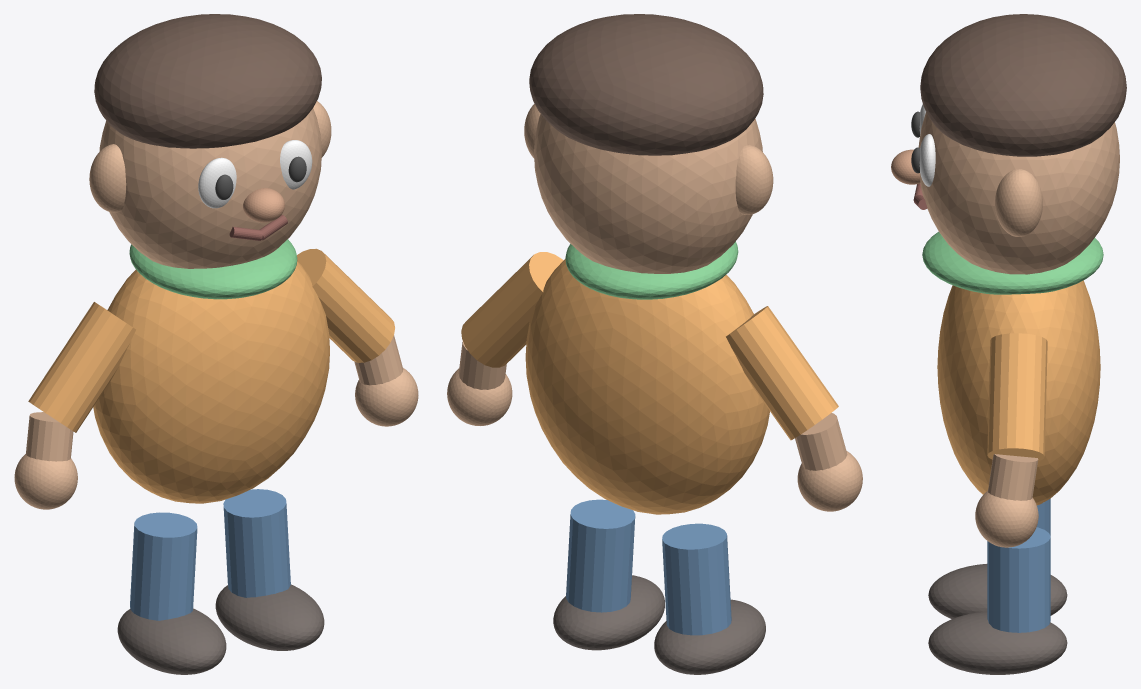
Rendered from golu.glb.
3 views of the same model, side by side, from view 1: azimuth 30°, elevation 25°; view 2: azimuth 150°, elevation 25°; view 3: azimuth 270°, elevation 25° (orthographic). The views are drawn at different scales.
Visible parts, largest first — view 1: Golu_torso, Golu_hair, Golu_head, Golu_L_upper_arm, Golu_L_leg, Golu_R_leg, Golu_R_upper_arm, Golu_L_shoe, Golu_R_shoe, Golu_scarf, Golu_L_hand, Golu_R_hand (+6 smaller); view 2: Golu_torso, Golu_hair, Golu_head, Golu_L_upper_arm, Golu_L_leg, Golu_R_leg, Golu_R_upper_arm, Golu_L_shoe, Golu_R_shoe, Golu_scarf, Golu_L_hand, Golu_R_hand (+3 smaller); view 3: Golu_hair, Golu_torso, Golu_head, Golu_R_upper_arm, Golu_R_shoe, Golu_R_leg, Golu_scarf, Golu_L_shoe, Golu_R_hand, Golu_ear_1, Golu_R_forearm, Golu_eye_white_1 (+2 smaller).
Part boxes in pixels (<box>): Golu_torso: <box>93,261,329,503</box>; Golu_hair: <box>94,14,321,148</box>; Golu_head: <box>99,108,321,268</box>; Golu_L_upper_arm: <box>28,302,135,432</box>; Golu_L_leg: <box>130,512,197,620</box>; Golu_R_leg: <box>223,489,290,597</box>; Golu_R_upper_arm: <box>297,248,394,362</box>; Golu_L_shoe: <box>117,608,226,674</box>; Golu_R_shoe: <box>215,584,324,650</box>; Golu_scarf: <box>129,239,297,299</box>; Golu_L_hand: <box>14,454,77,509</box>; Golu_R_hand: <box>355,368,418,426</box>; Golu_torso: <box>525,259,769,514</box>; Golu_hair: <box>529,14,763,155</box>; Golu_head: <box>534,114,762,273</box>; Golu_L_upper_arm: <box>726,306,838,440</box>; Golu_L_leg: <box>662,523,731,635</box>; Golu_R_leg: <box>566,499,635,612</box>; Golu_R_upper_arm: <box>461,252,563,367</box>; Golu_L_shoe: <box>654,599,765,674</box>; Golu_R_shoe: <box>553,575,664,650</box>; Golu_scarf: <box>565,241,738,299</box>; Golu_L_hand: <box>797,451,862,511</box>; Golu_R_hand: <box>447,368,512,425</box>; Golu_hair: <box>920,14,1126,156</box>; Golu_torso: <box>937,280,1100,505</box>; Golu_head: <box>918,112,1119,274</box>; Golu_R_upper_arm: <box>987,333,1047,461</box>; Golu_R_shoe: <box>928,611,1067,674</box>; Golu_R_leg: <box>987,527,1050,632</box>; Golu_scarf: <box>922,231,1103,294</box>; Golu_L_shoe: <box>928,564,1067,618</box>; Golu_R_hand: <box>975,491,1038,547</box>; Golu_ear_1: <box>995,169,1042,236</box>; Golu_R_forearm: <box>988,454,1038,500</box>; Golu_eye_white_1: <box>919,134,935,186</box>.
Bounding box in the file's own units: 1.51 × 2.23 × 0.7804.
